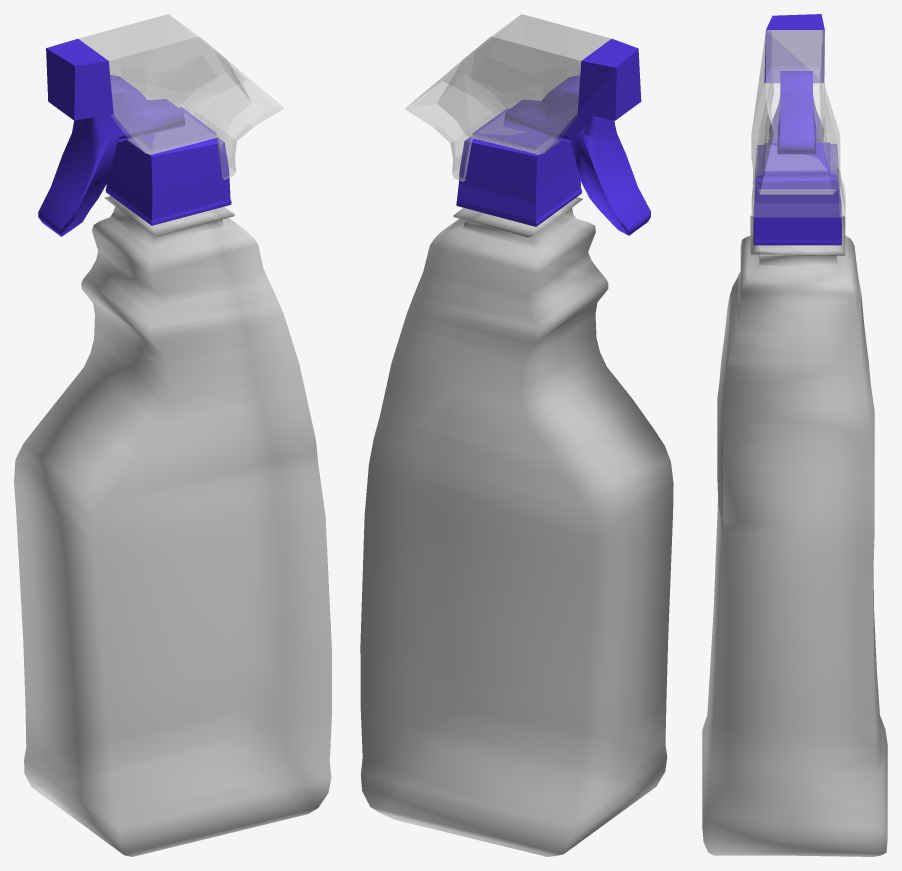
File: spray_bottle.glb
3 views of the same model, side by side, from view 1: azimuth 30°, elevation 25°; view 2: azimuth 150°, elevation 25°; view 3: azimuth 270°, elevation 25° (orthographic). The views are drawn at different scales.
Visible parts, largest first — view 1: Cube, Cube.002, Cube.001, Cube.003; view 2: Cube, Cube.002, Cube.001, Cube.003; view 3: Cube, Cube.002, Cube.001, Cube.003.
Part boxes in pixels (left/top/right/bottom): Cube: left=14, top=196, right=331, bottom=856; Cube.002: left=46, top=14, right=284, bottom=179; Cube.001: left=105, top=107, right=231, bottom=225; Cube.003: left=38, top=75, right=185, bottom=236; Cube: left=360, top=197, right=673, bottom=856; Cube.002: left=405, top=14, right=641, bottom=181; Cube.001: left=456, top=109, right=582, bottom=226; Cube.003: left=503, top=76, right=650, bottom=235; Cube: left=702, top=215, right=887, bottom=856; Cube.002: left=751, top=14, right=845, bottom=217; Cube.001: left=753, top=142, right=841, bottom=245; Cube.003: left=768, top=71, right=823, bottom=154.
Size of the model in its own units: 0.3693 by 1.17 by 0.2569.
